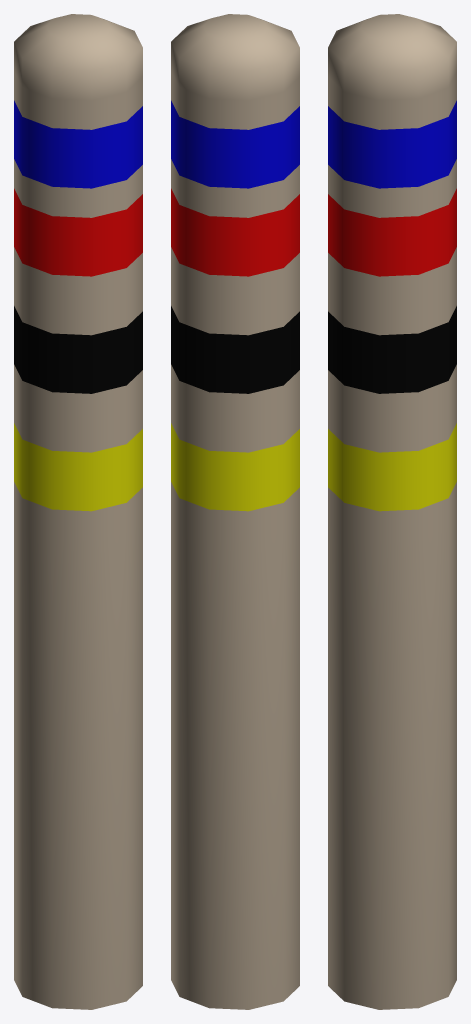
File: Croquet_Pole_1.fbx
3 views of the same model, side by side, from view 1: azimuth 30°, elevation 25°; view 2: azimuth 210°, elevation 25°; view 3: azimuth 330°, elevation 25° (orthographic).
Parts seen in each view (by area): view 1: pCylinder1; view 2: pCylinder1; view 3: pCylinder1.
Part boxes in pixels (box(x1,y1,x2,y2)): pCylinder1: box(14, 14, 142, 1009); pCylinder1: box(171, 14, 299, 1009); pCylinder1: box(328, 14, 456, 1009).
Size of the model in its own units: 1 by 8.15 by 0.9511.
